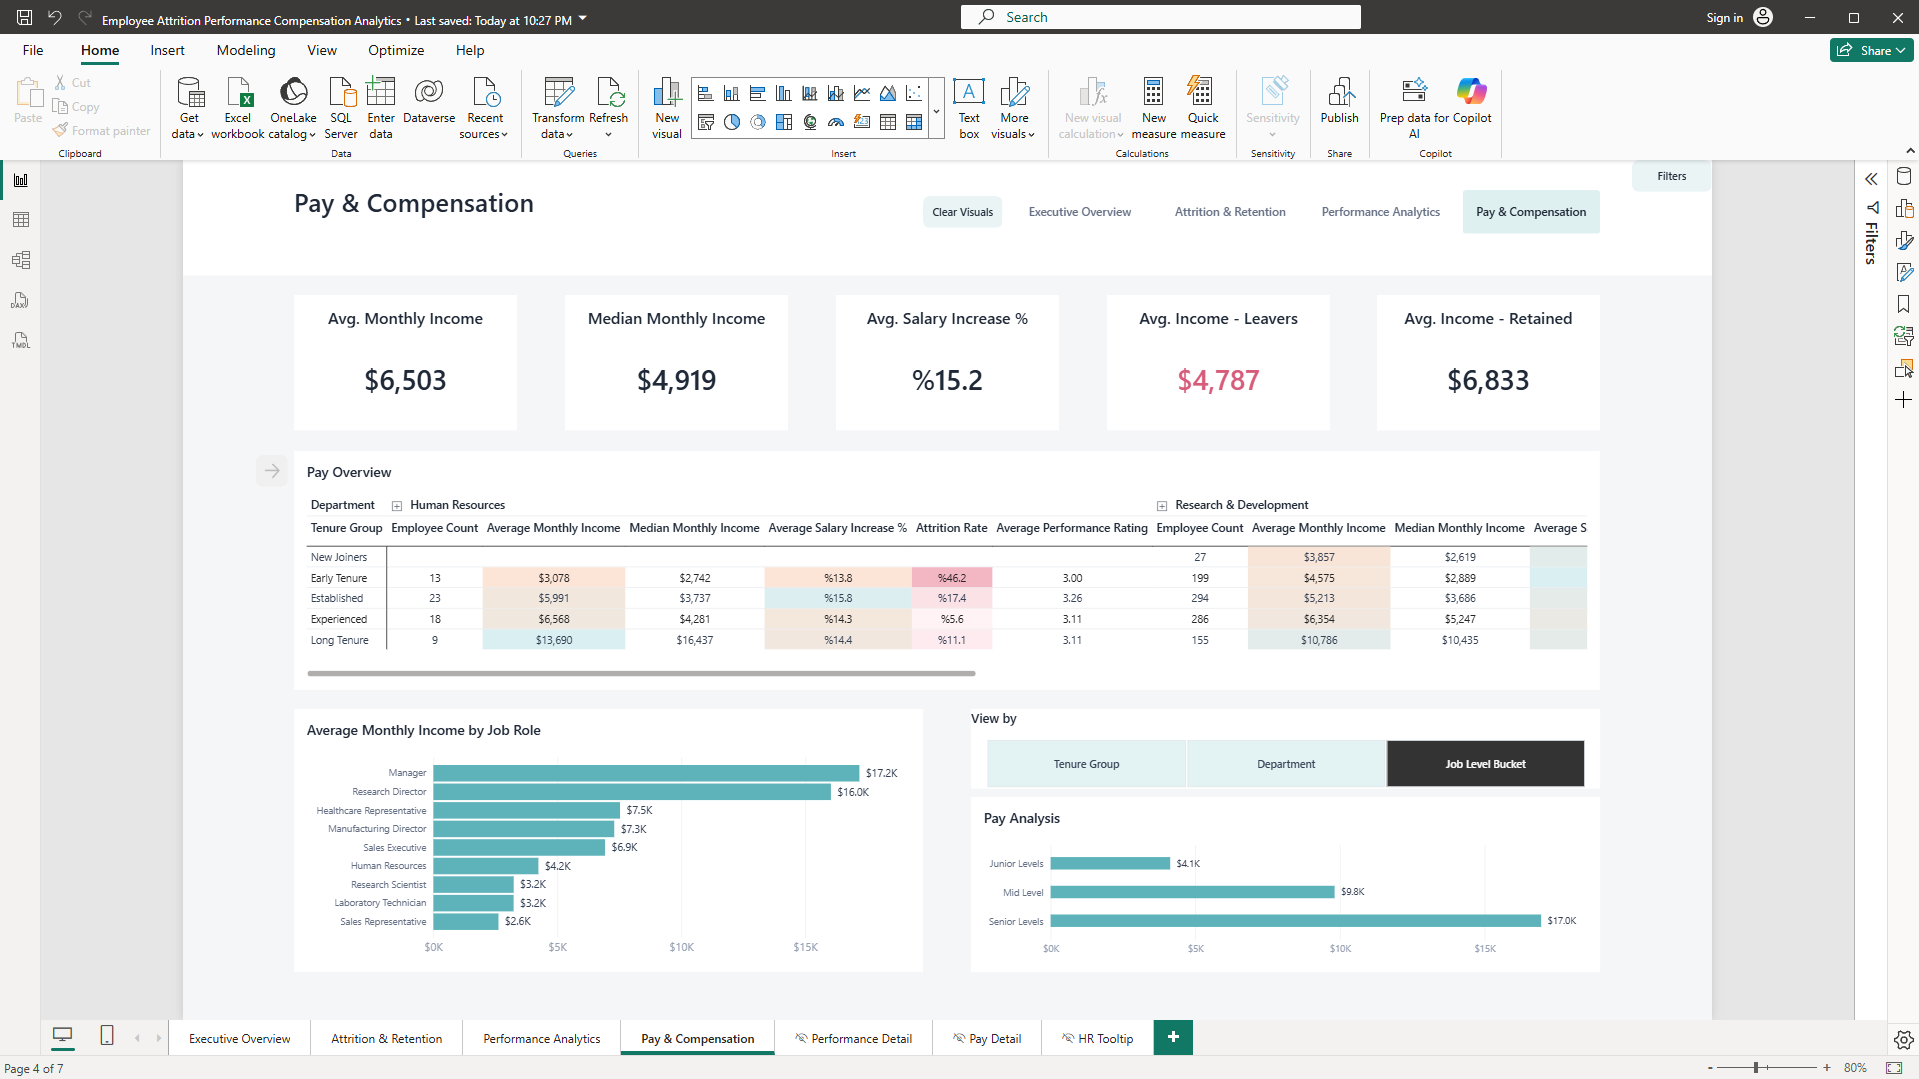

What the dashboard file says about the page in this screenshot:
{"tool":"powerbi","page":{"name":"Pay & Compensation","canvas":[1920,1080],"ordinal":3},"visuals":[{"type":"shape","box":[0,0,1920,145],"z":0},{"type":"card","title":"Avg. Monthly Income","fields":{"Values":["Measure Table.Average Monthly Income"]},"box":[140,170,280,170],"z":1000},{"type":"card","title":"Median Monthly Income","fields":{"Values":["Measure Table.Median Monthly Income"]},"box":[480,170,280,170],"z":2000},{"type":"card","title":"Avg. Salary Increase %","fields":{"Values":["Measure Table.Average Salary Increase %"]},"box":[820,170,280,170],"z":3000},{"type":"card","title":"Avg. Income - Leavers","fields":{"Values":["Measure Table.Average Income - Leavers"]},"box":[1160,170,280,170],"z":4000},{"type":"pivotTable","title":"Pay Overview","fields":{"Columns":["Employee Data.Department","Employee Data.Job Level Bucket"],"Rows":["Employee Data.Tenure Group"],"Values":["Measure Table.Employee Count","Measure Table.Average Monthly Income","Measure Table.Median Monthly Income","Measure Table.Average Salary Increase %","Measure Table.Attrition Rate","Measure Table.Average Performance Rating"]},"box":[140,365,1640,300],"z":5000},{"type":"clusteredBarChart","title":"Average Monthly Income by Job Role","fields":{"Category":["Employee Data.Job Role"],"Y":["Measure Table.Average Monthly Income"]},"box":[140,690,790,330],"z":6000},{"type":"clusteredBarChart","title":"Pay Analysis","fields":{"Category":["Employee Data.Job Level Bucket"],"Y":["Measure Table.Average Monthly Income"]},"box":[990,800,790,220],"z":7000},{"type":"textbox","box":[140,30,850,45],"z":8000},{"type":"pageNavigator","box":[1040,38,740,55],"z":9000},{"type":"slicer","title":"View by","fields":{"Values":["Pay Analysis.Pay Analysis"]},"box":[990,690,790,100],"z":10000},{"type":"card","title":"Avg. Income - Retained","fields":{"Values":["Measure Table.Average Income - Retained"]},"box":[1500,170,280,170],"z":11000},{"type":"actionButton","box":[92,371,40,40],"z":12000},{"type":"actionButton","box":[1820,0,100,40],"z":12001},{"type":"actionButton","box":[929.3,45.2,100,40],"z":12009}]}

Visuals, with their boxes on the page's 1920x1080 design canvas (x1, y1, x2, y2). These are canvas units, not pixel positions in the 1919x1079 screenshot, which may show the page scaled, cropped or inside an application window:
shape: bbox=[0, 0, 1920, 145]
"Avg. Monthly Income" card: bbox=[140, 170, 420, 340]
"Median Monthly Income" card: bbox=[480, 170, 760, 340]
"Avg. Salary Increase %" card: bbox=[820, 170, 1100, 340]
"Avg. Income - Leavers" card: bbox=[1160, 170, 1440, 340]
"Pay Overview" pivotTable: bbox=[140, 365, 1780, 665]
"Average Monthly Income by Job Role" clusteredBarChart: bbox=[140, 690, 930, 1020]
"Pay Analysis" clusteredBarChart: bbox=[990, 800, 1780, 1020]
textbox: bbox=[140, 30, 990, 75]
pageNavigator: bbox=[1040, 38, 1780, 93]
"View by" slicer: bbox=[990, 690, 1780, 790]
"Avg. Income - Retained" card: bbox=[1500, 170, 1780, 340]
actionButton: bbox=[92, 371, 132, 411]
actionButton: bbox=[1820, 0, 1920, 40]
actionButton: bbox=[929, 45, 1029, 85]
